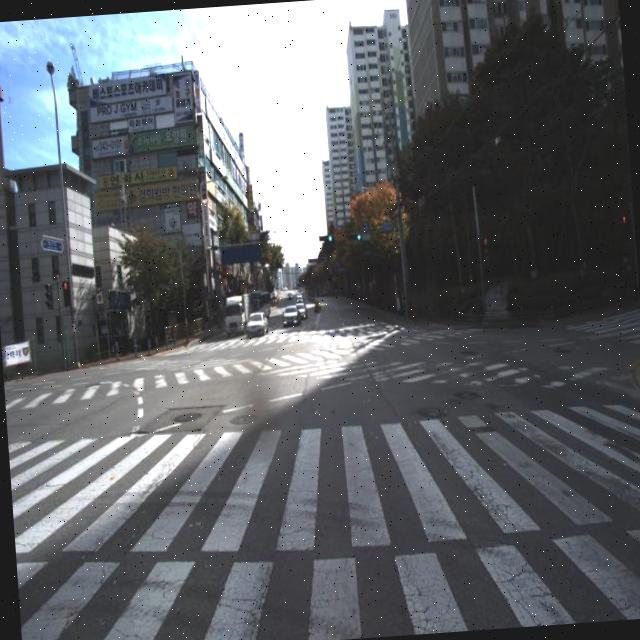crosswalk: (8, 403, 640, 640), (6, 326, 478, 411), (261, 360, 605, 389), (162, 320, 414, 356), (565, 307, 640, 345), (92, 358, 239, 369)
